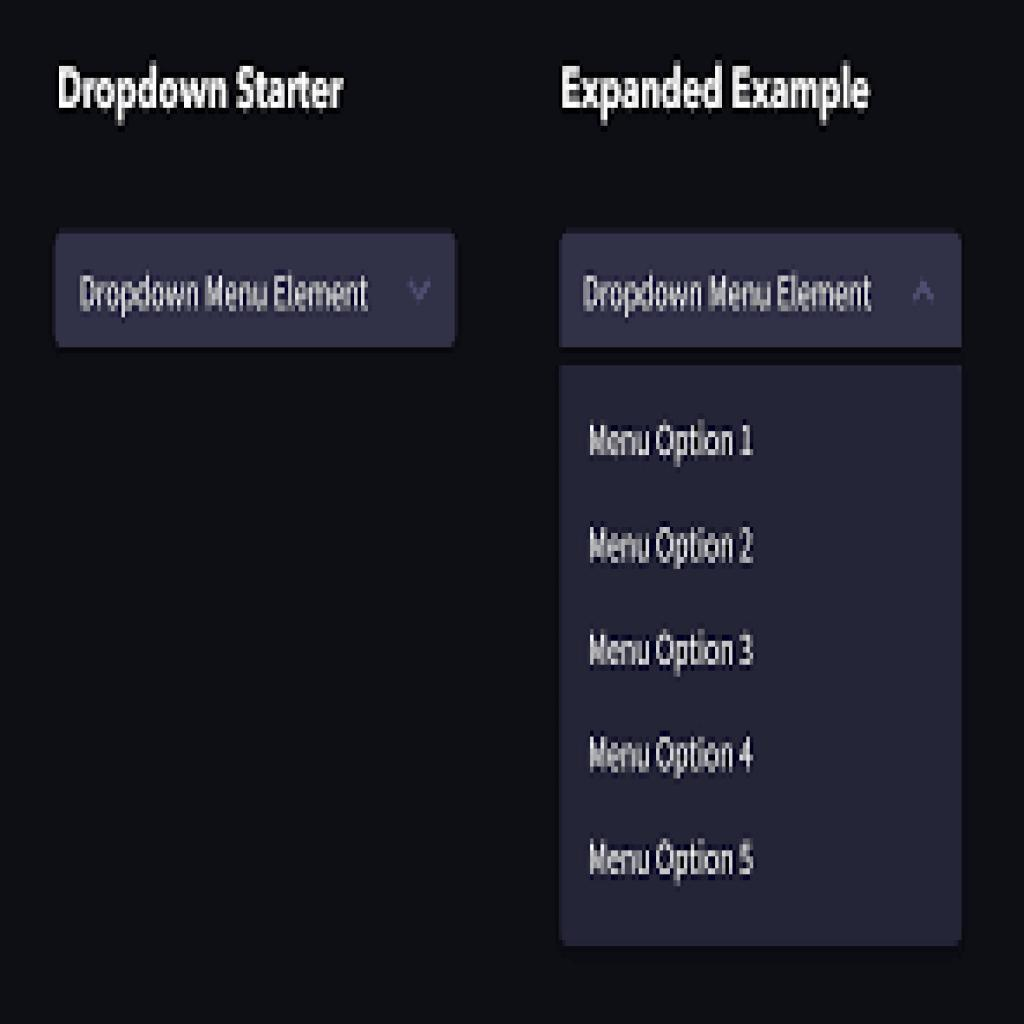dropdown: (558, 236, 964, 347), (56, 238, 458, 348)
